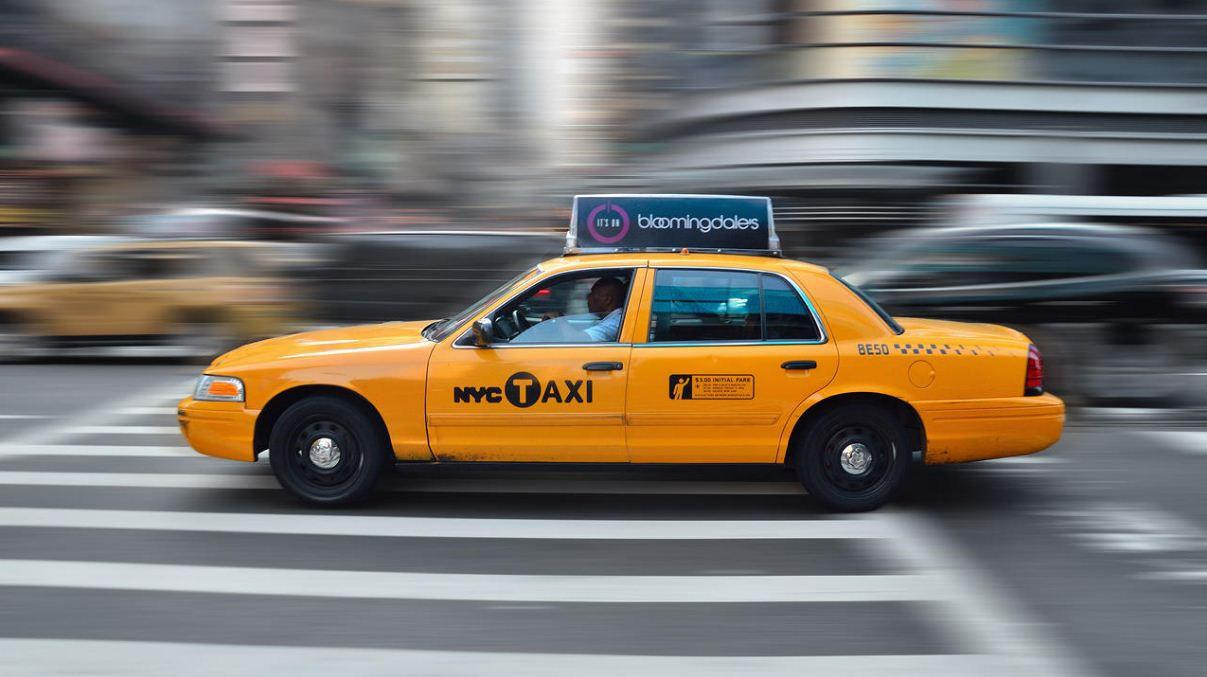taxi: (146, 232, 1097, 505)
